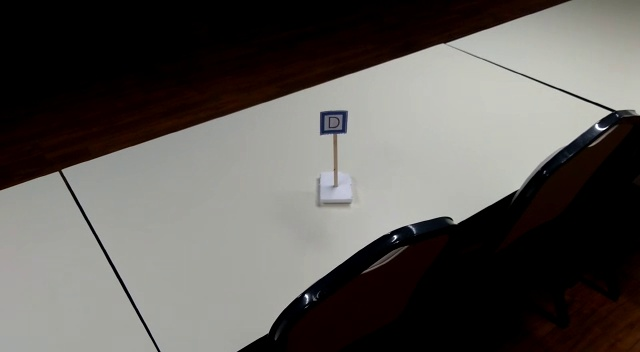durak: (319, 110, 347, 135)
